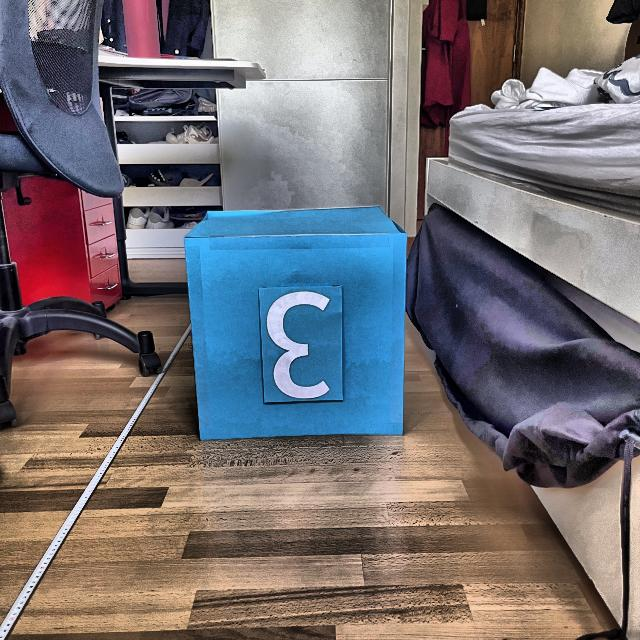blue box: (184, 206, 413, 439)
three: (264, 286, 336, 401)
